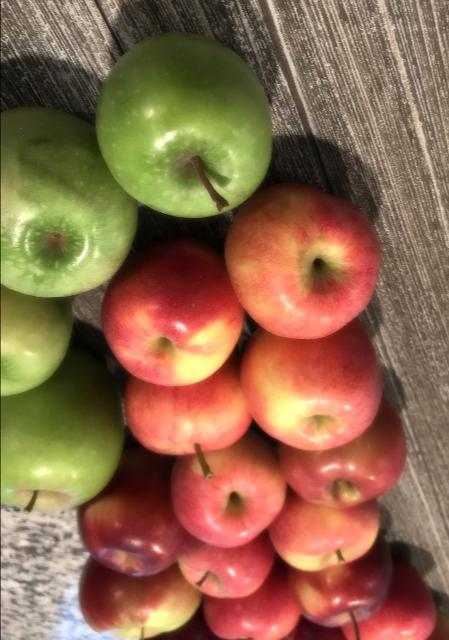Apples: (227, 188, 380, 338), (102, 252, 241, 386), (246, 334, 382, 451), (125, 366, 247, 460), (172, 449, 284, 547), (284, 423, 408, 507), (74, 484, 178, 576), (274, 493, 378, 575), (295, 561, 391, 625), (179, 538, 270, 602)
